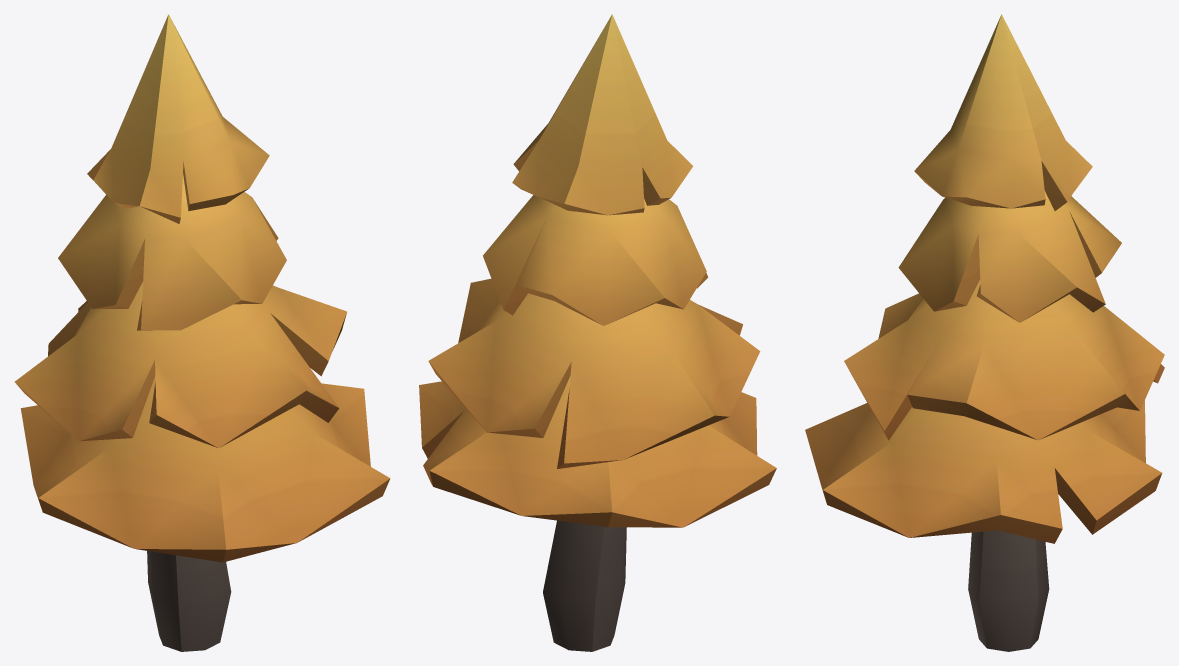
File: tree_pine_yellow_medium.glb
The picture shows the model from 3 angles, left to right: view 1: azimuth 30°, elevation 25°; view 2: azimuth 150°, elevation 25°; view 3: azimuth 270°, elevation 25°; orthographic projection. The views are drawn at different scales.
Parts seen in each view (by area): view 1: tree_pine_yellow_medium; view 2: tree_pine_yellow_medium; view 3: tree_pine_yellow_medium.
Boxes of the visible parts, <box> form: tree_pine_yellow_medium: <box>14,14,390,651</box>; tree_pine_yellow_medium: <box>419,14,776,651</box>; tree_pine_yellow_medium: <box>805,14,1164,651</box>.
Bounding box in the file's own units: 3.33 × 5.87 × 3.12.
1 material, 1 textured.
